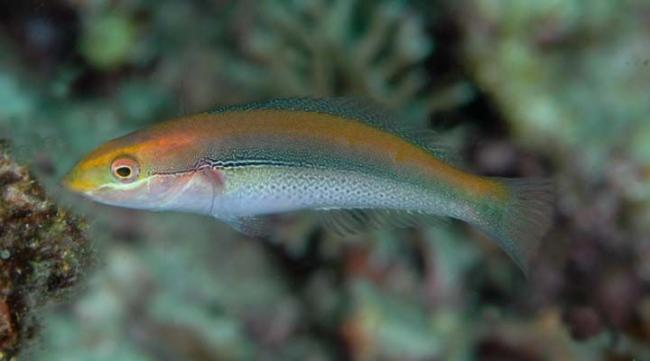fish: (59, 94, 557, 281)
